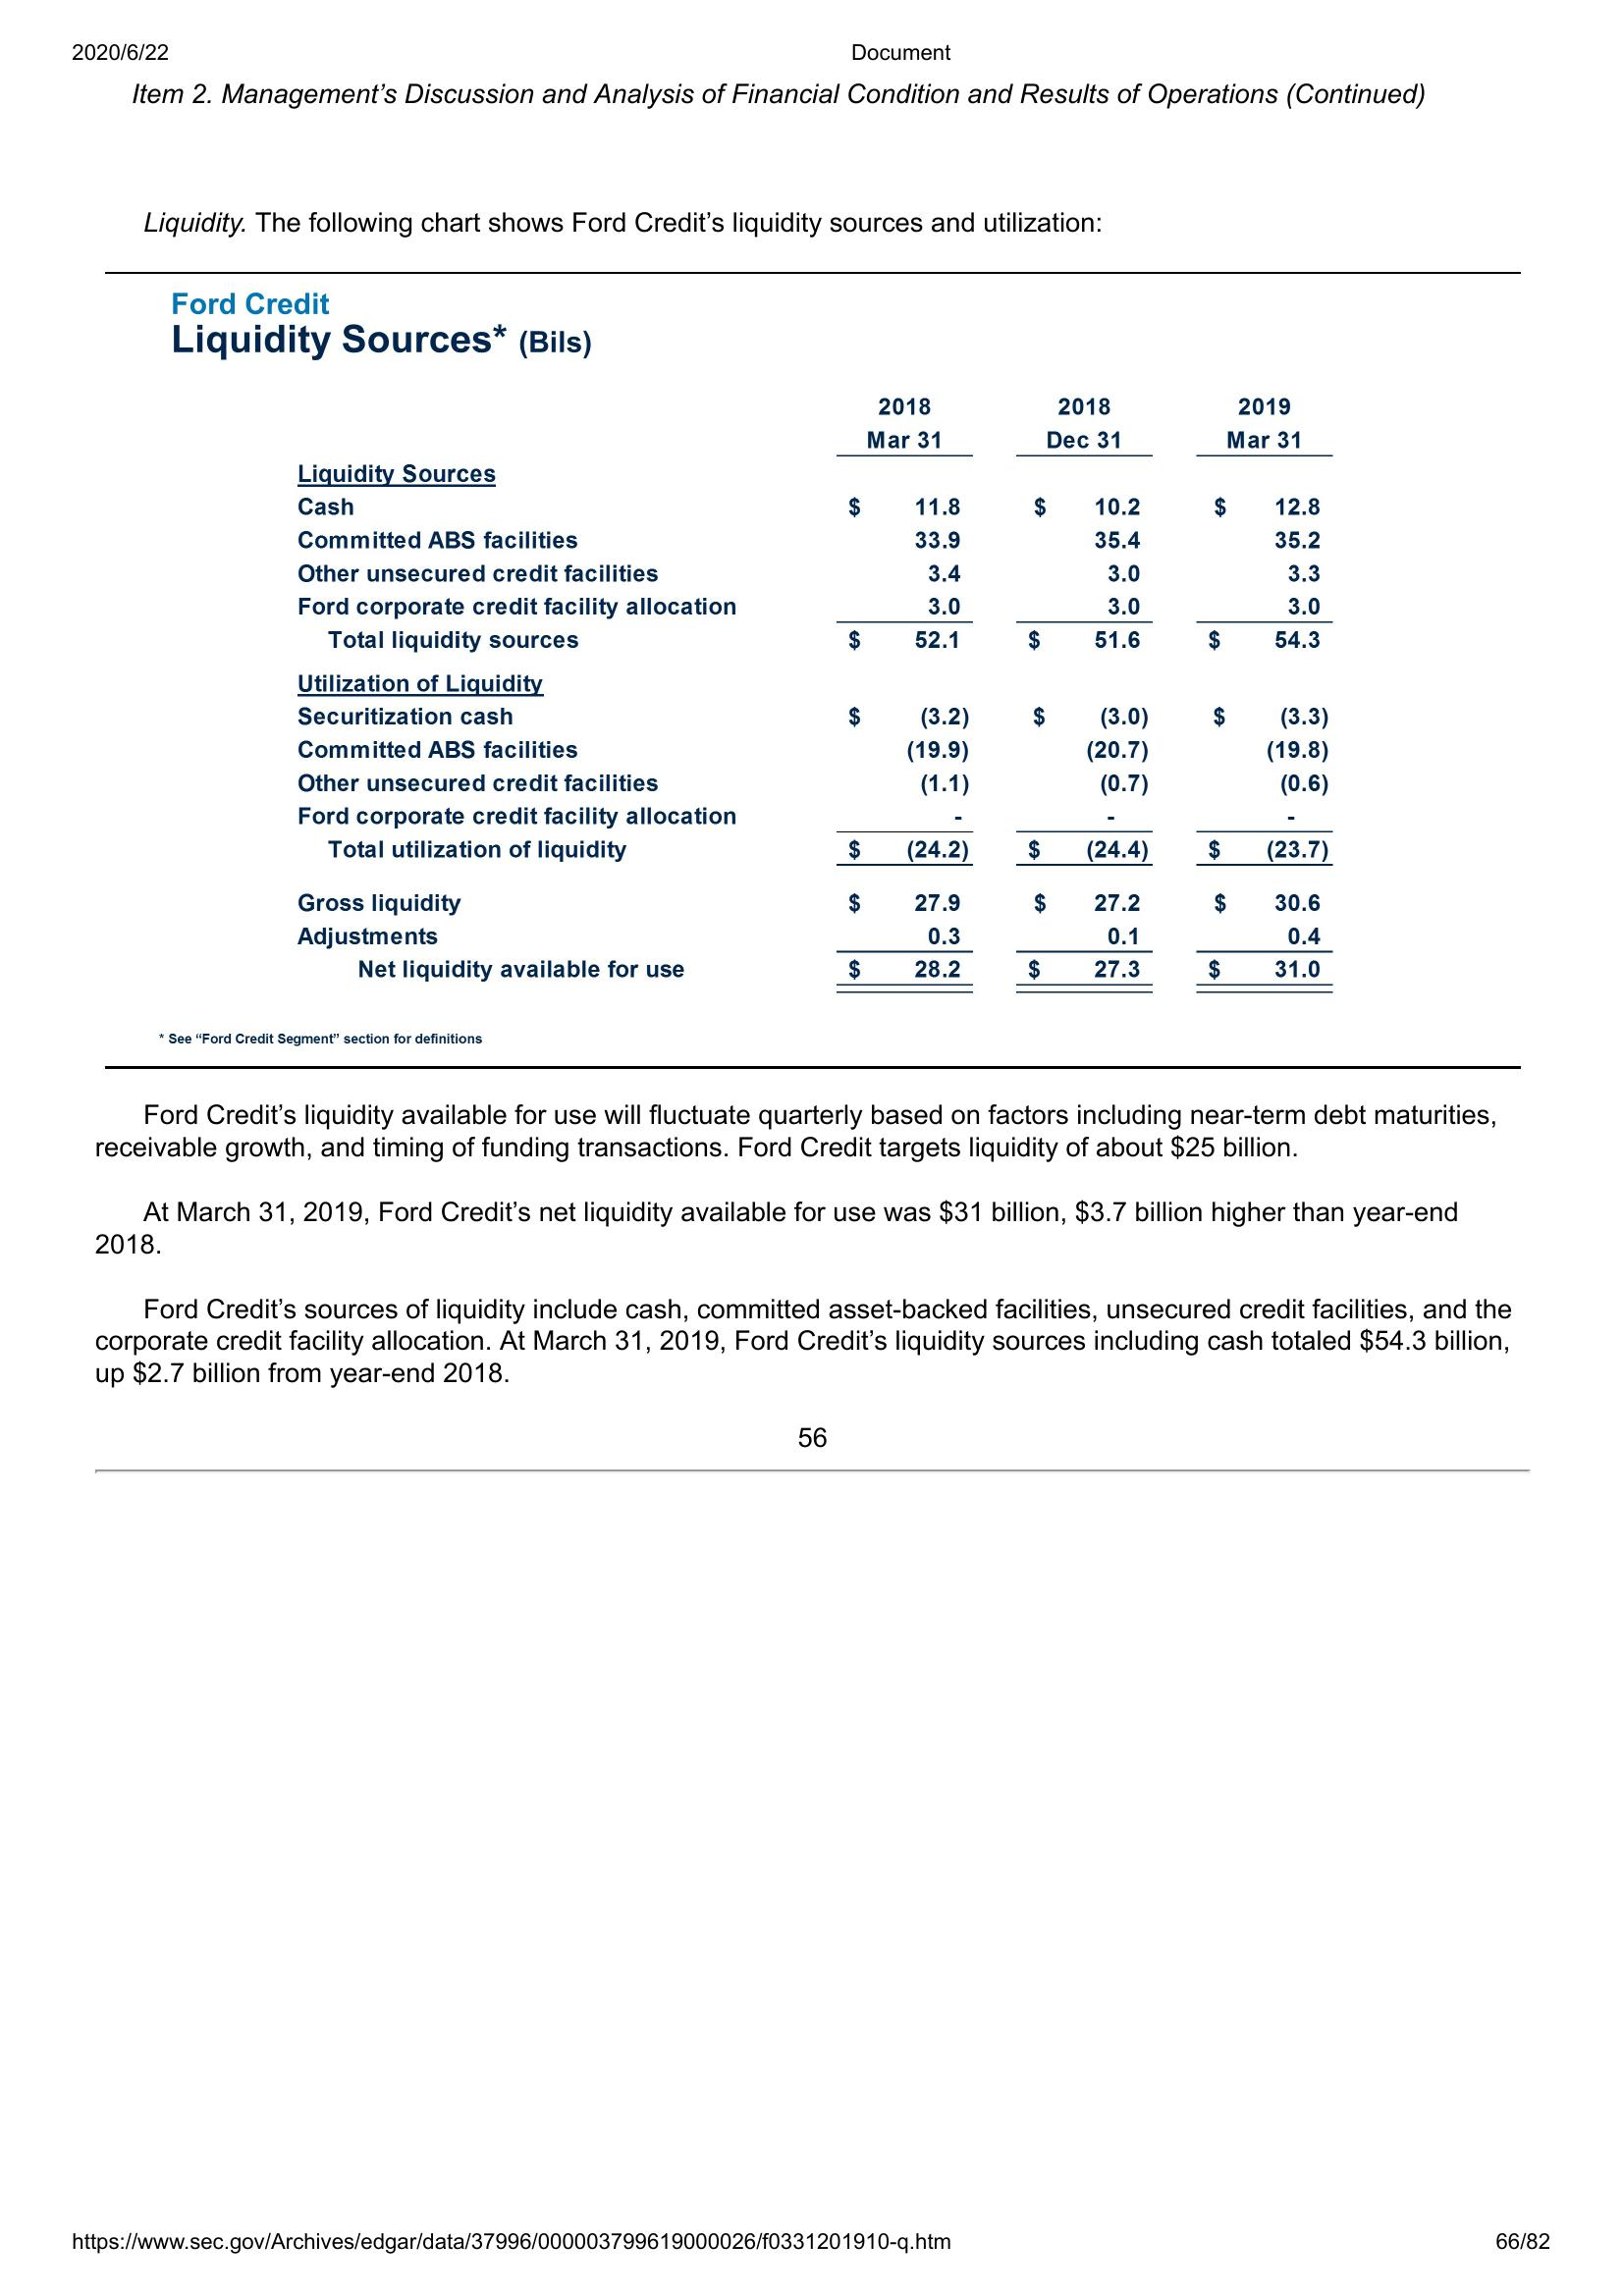table: (288, 393, 1344, 999)
